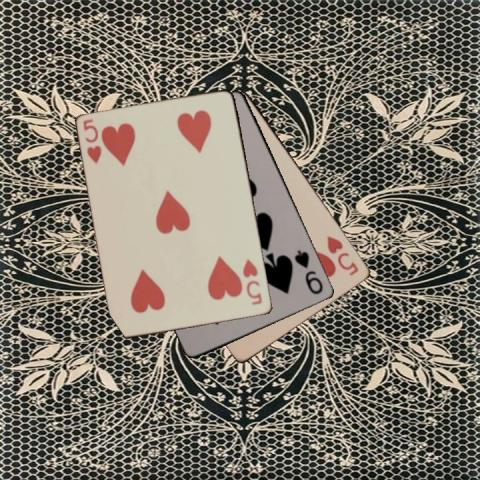5h: (324, 233, 361, 277), (240, 255, 264, 307), (80, 116, 103, 166)
9s: (292, 247, 325, 296)
